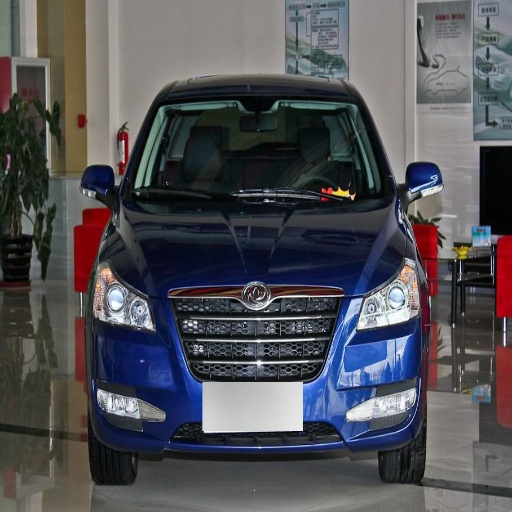front_bumper: (90, 282, 423, 458)
front_right_light: (94, 256, 157, 333)
hood: (117, 191, 408, 297)
left_mirror: (405, 161, 443, 202)
